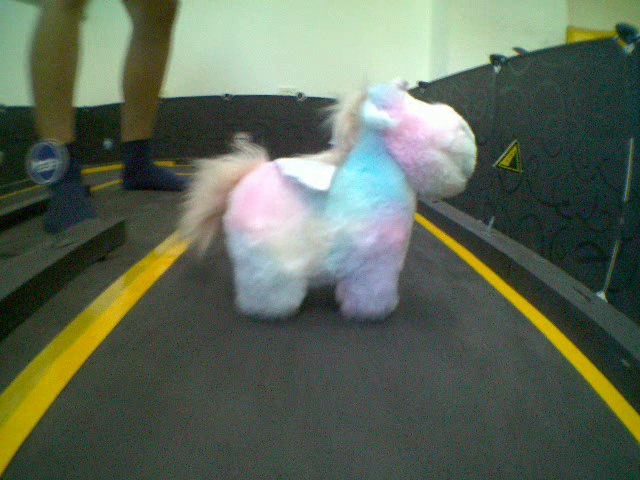unicorn: (177, 74, 480, 325)
